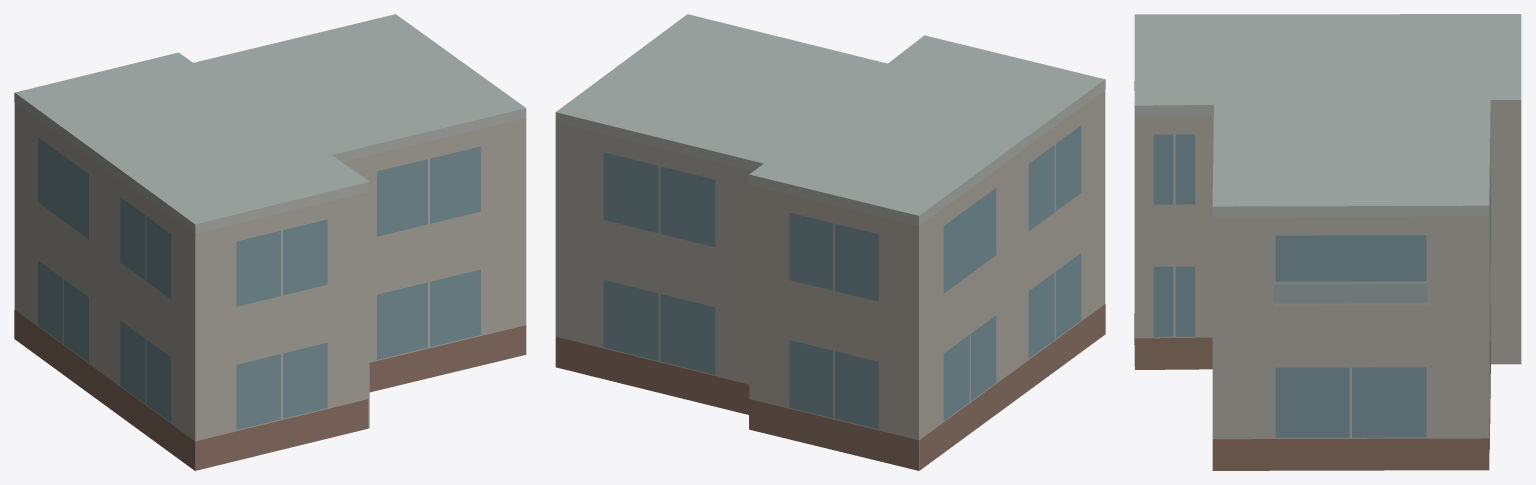
Rendered from survey-upis-32716242.glb.
The picture shows the model from 3 angles, left to right: view 1: azimuth 30°, elevation 25°; view 2: azimuth 150°, elevation 25°; view 3: azimuth 270°, elevation 25°; orthographic projection. The views are drawn at different scales.
Visible parts, largest first — view 1: survey-upis-32716242.tmp; view 2: survey-upis-32716242.tmp; view 3: survey-upis-32716242.tmp.
Boxes of the visible parts, x1,y1,x2,y2 form: survey-upis-32716242.tmp: [14, 14, 526, 470]; survey-upis-32716242.tmp: [555, 14, 1105, 470]; survey-upis-32716242.tmp: [1134, 14, 1521, 470].
Bounding box in the file's own units: 9.56 × 6.1 × 8.1.
